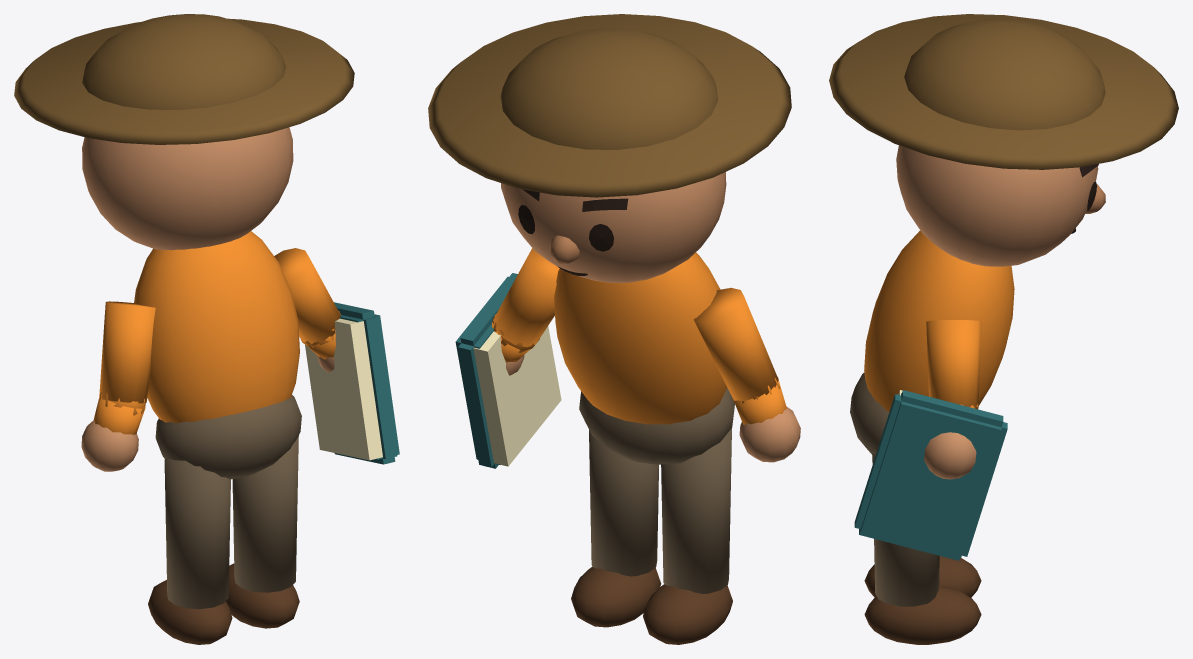
Rendered from rastro.glb.
3 views of the same model, side by side, from view 1: azimuth 30°, elevation 25°; view 2: azimuth 150°, elevation 25°; view 3: azimuth 270°, elevation 25° (orthographic). The views are drawn at different scales.
Parts seen in each view (by area): view 1: Rastro_Body, Rastro_Head, Rastro_HatBrim, Rastro_Hat, Rastro_LegL, Rastro_LegR, Rastro_Pants, Rastro_NotebookPages, Rastro_ArmL, Rastro_ArmR, Rastro_Notebook, Rastro_BootL (+2 smaller); view 2: Rastro_HatBrim, Rastro_Body, Rastro_Hat, Rastro_Head, Rastro_LegL, Rastro_LegR, Rastro_NotebookPages, Rastro_ArmL, Rastro_Pants, Rastro_ArmR, Rastro_BootL, Rastro_BootR (+4 smaller); view 3: Rastro_HatBrim, Rastro_Hat, Rastro_Head, Rastro_Notebook, Rastro_Body, Rastro_BootR, Rastro_ArmR, Rastro_LegR, Rastro_HandR, Rastro_Pants, Rastro_BootL.
Part boxes in pixels (left/top/right/bottom): Rastro_Body: left=134, top=231, right=299, bottom=423; Rastro_Head: left=82, top=127, right=293, bottom=250; Rastro_HatBrim: left=14, top=18, right=354, bottom=144; Rastro_Hat: left=82, top=14, right=285, bottom=109; Rastro_LegL: left=164, top=458, right=230, bottom=609; Rastro_LegR: left=232, top=435, right=298, bottom=592; Rastro_Pants: left=155, top=395, right=301, bottom=479; Rastro_NotebookPages: left=305, top=318, right=382, bottom=460; Rastro_ArmL: left=93, top=301, right=155, bottom=434; Rastro_ArmR: left=274, top=248, right=340, bottom=359; Rastro_Notebook: left=334, top=302, right=399, bottom=464; Rastro_BootL: left=148, top=580, right=232, bottom=644; Rastro_HatBrim: left=428, top=14, right=791, bottom=197; Rastro_Body: left=554, top=252, right=727, bottom=424; Rastro_Hat: left=500, top=28, right=718, bottom=149; Rastro_Head: left=501, top=172, right=726, bottom=282; Rastro_LegL: left=661, top=428, right=731, bottom=593; Rastro_LegR: left=589, top=430, right=658, bottom=576; Rastro_NotebookPages: left=473, top=326, right=561, bottom=466; Rastro_ArmL: left=693, top=287, right=786, bottom=424; Rastro_Pants: left=579, top=387, right=734, bottom=464; Rastro_ArmR: left=492, top=248, right=559, bottom=362; Rastro_BootL: left=643, top=584, right=732, bottom=644; Rastro_BootR: left=571, top=566, right=661, bottom=627; Rastro_HatBrim: left=829, top=14, right=1178, bottom=169; Rastro_Hat: left=904, top=18, right=1105, bottom=130; Rastro_Head: left=896, top=145, right=1098, bottom=266; Rastro_Notebook: left=854, top=390, right=1007, bottom=560; Rastro_Body: left=864, top=230, right=1014, bottom=411; Rastro_BootR: left=864, top=585, right=981, bottom=644; Rastro_ArmR: left=926, top=319, right=981, bottom=409; Rastro_LegR: left=872, top=452, right=939, bottom=606; Rastro_HandR: left=924, top=432, right=976, bottom=479; Rastro_Pants: left=850, top=373, right=889, bottom=454; Rastro_BootL: left=864, top=556, right=981, bottom=597.
Bounding box in the file's own units: 0.734 × 1.31 × 0.7035.
